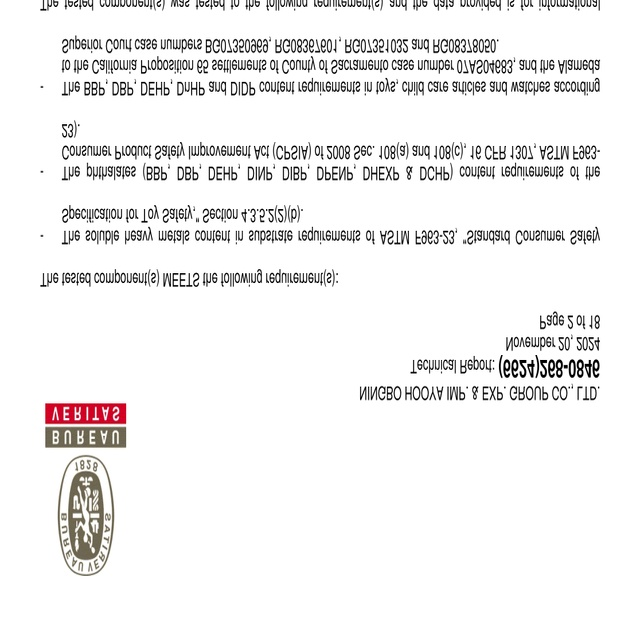bureau_veritas: (39, 395, 137, 582)
